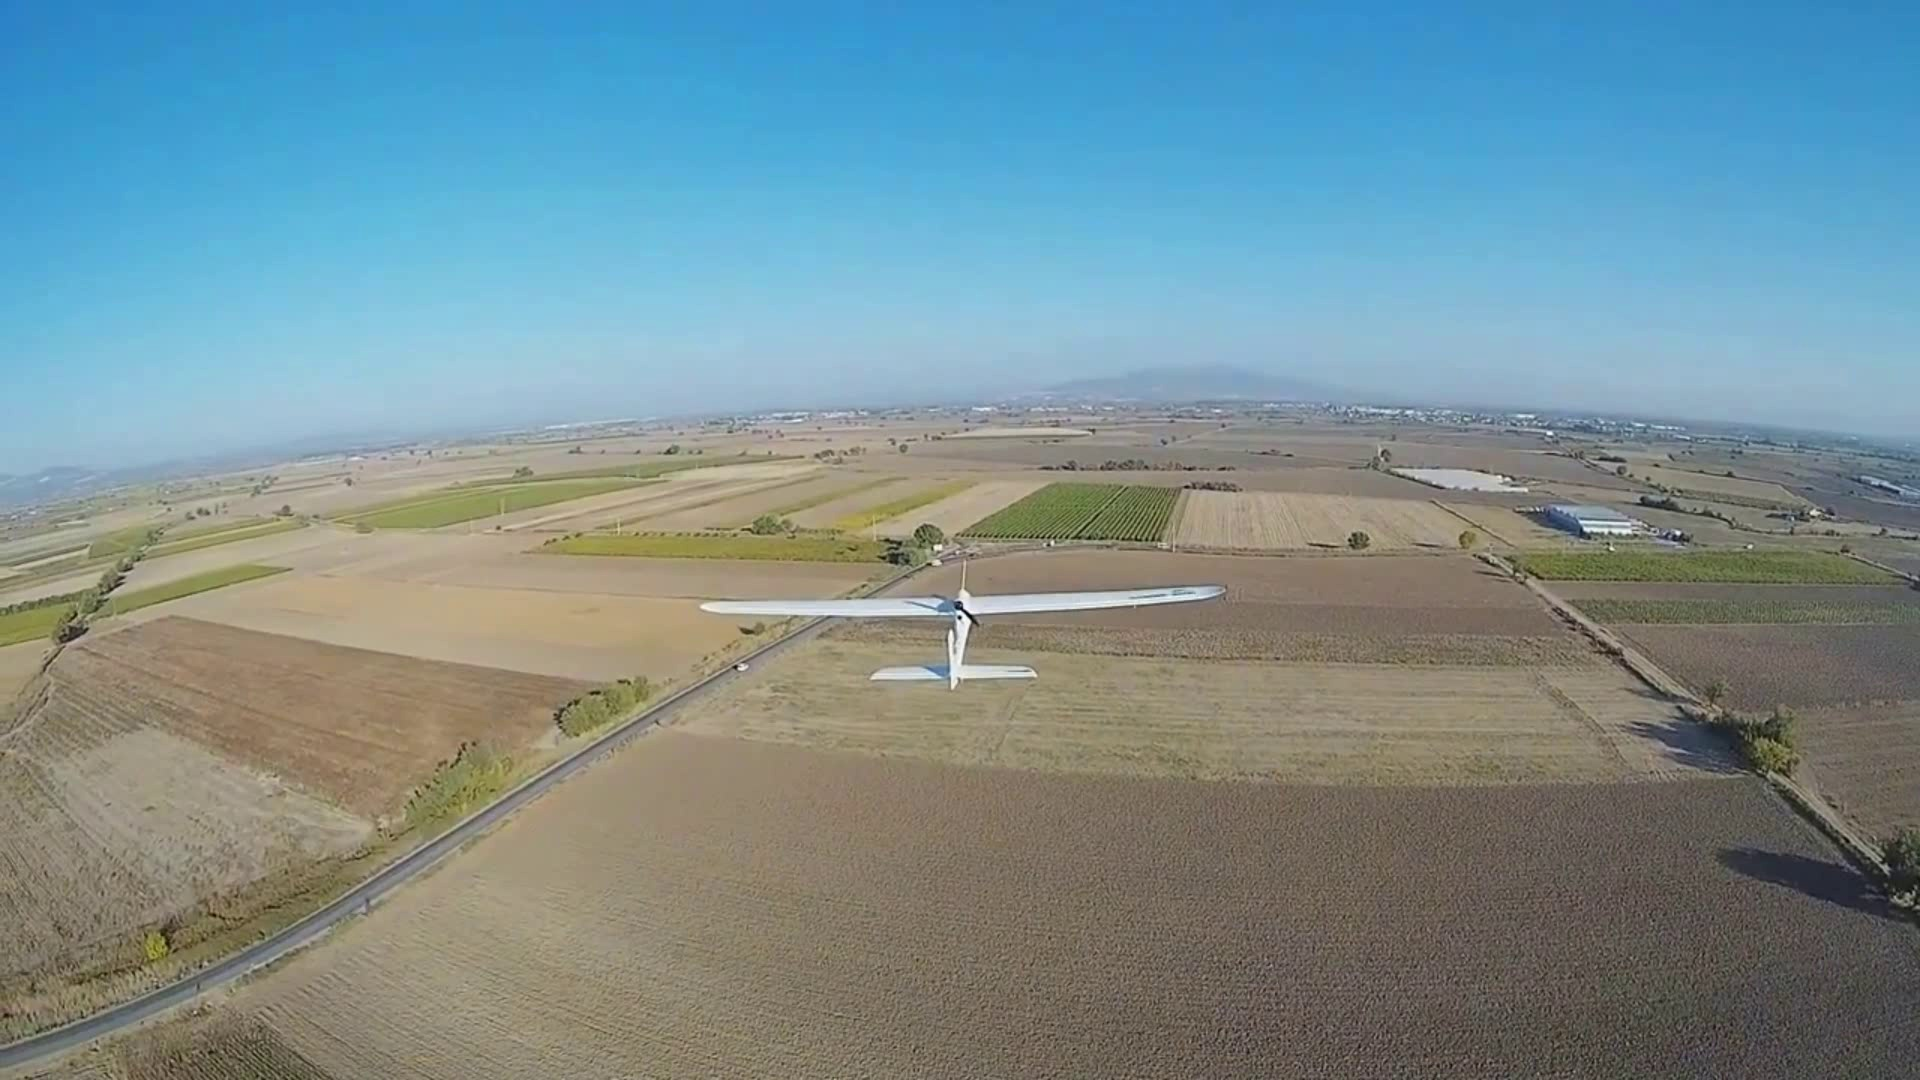airplane: (695, 570, 1227, 688)
